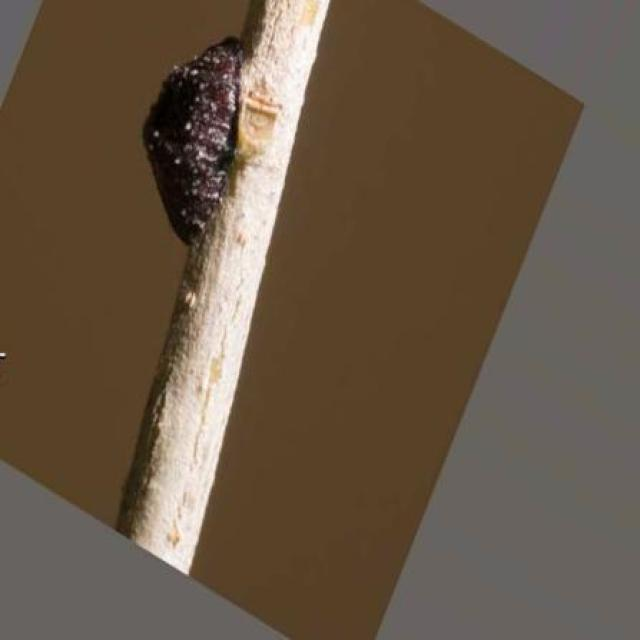Black Scale: (143, 37, 242, 248)
